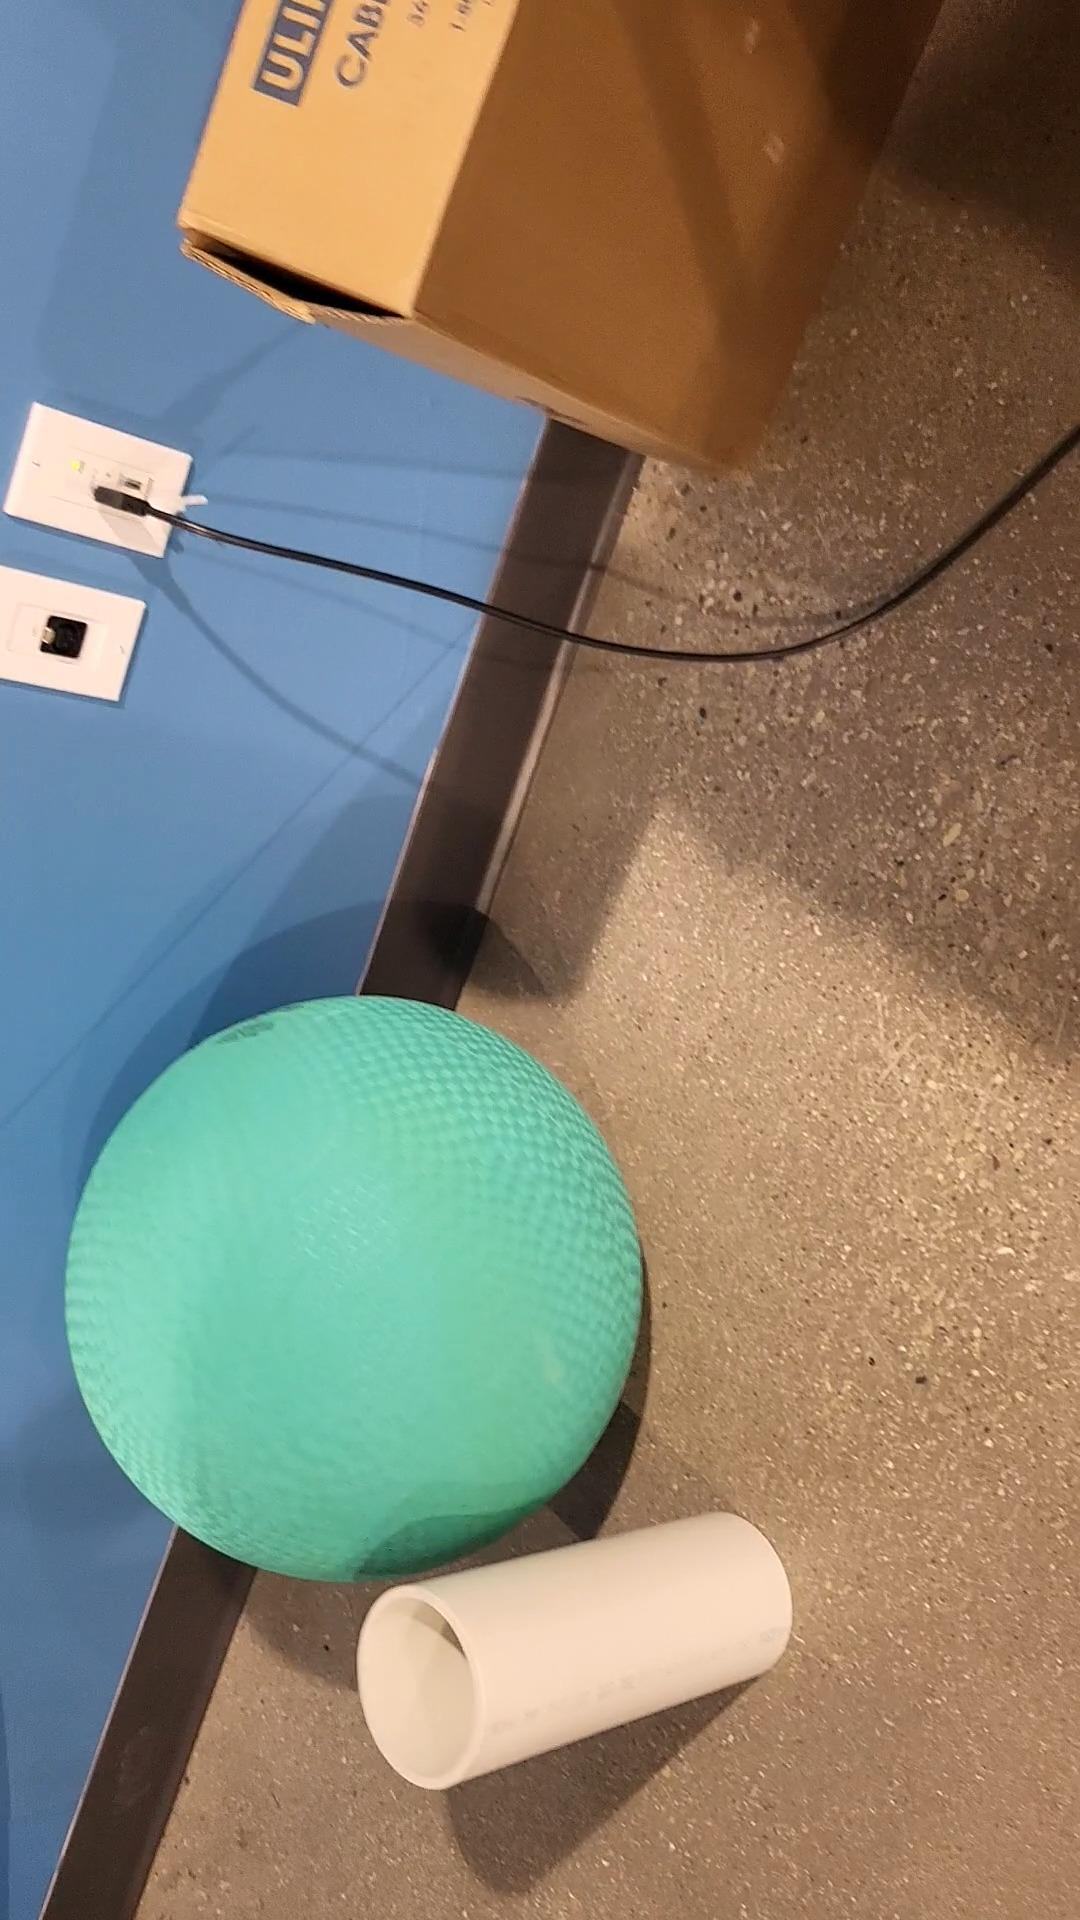algae: (70, 996, 641, 1578)
coral: (360, 1511, 790, 1789)
